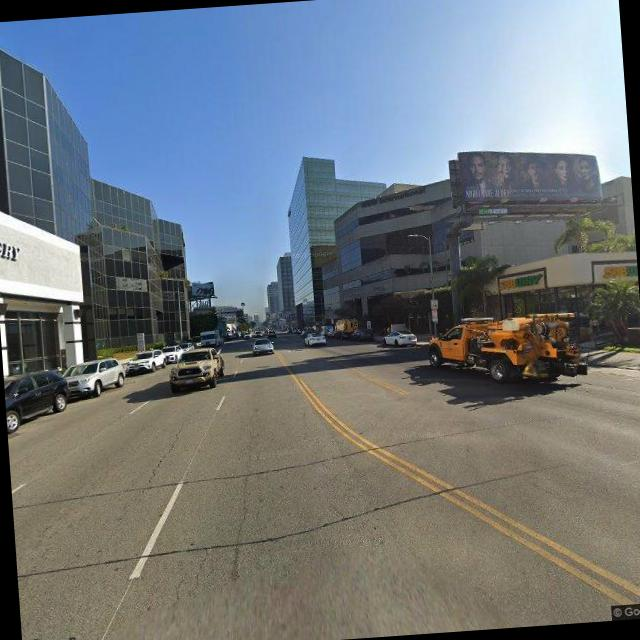pothole: (139, 419, 188, 486)
